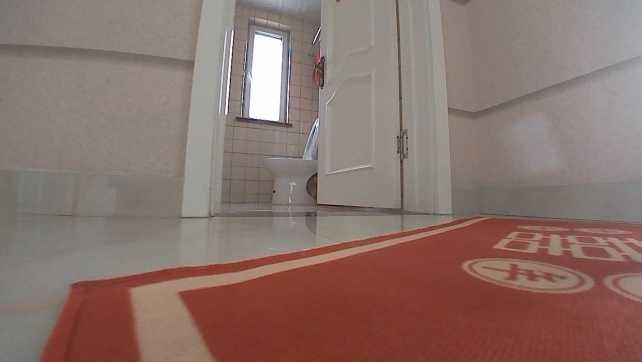blanket: (41, 210, 640, 361)
door_anno: (311, 0, 453, 215)
toilet: (263, 116, 322, 205)
